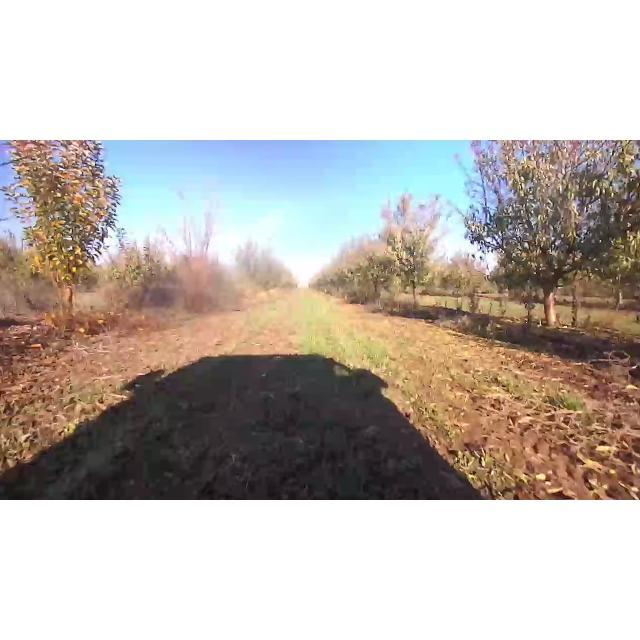direk: (446, 140, 640, 332), (1, 143, 130, 327), (156, 182, 226, 318), (379, 192, 451, 312), (340, 222, 400, 306)
